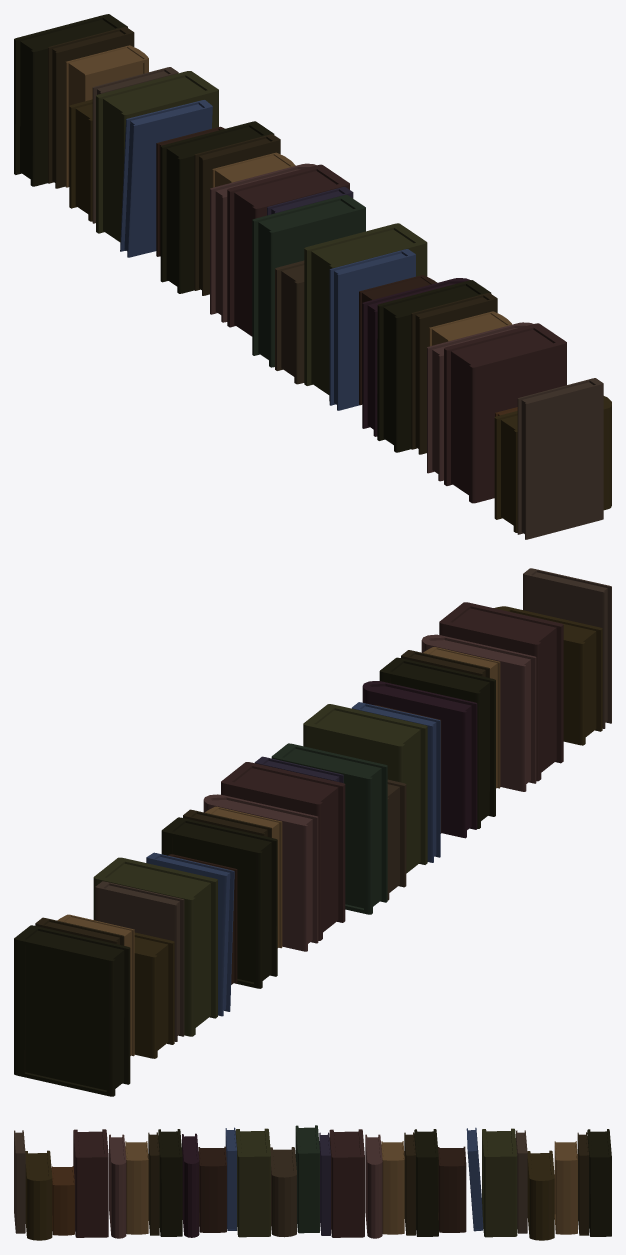
File: bookenlijn1.fbx
3 views of the same model, one above another, from view 1: azimuth 30°, elevation 25°; view 2: azimuth 150°, elevation 25°; view 3: azimuth 270°, elevation 25° (orthographic). The views are drawn at different scales.
Parts seen in each view (by area): view 1: B_book2, B_book1, book4, book2.001, book2, book6.001, B_book4.001, B_book4, B_book2.001, B_book4.002, book6, B_book6.002 (+15 smaller); view 2: B_book4.002, B_book4.001, book2, book4, B_book2, B_book2.001, book2.001, B_book5, book5, book5.001, B_book4, B_book3 (+14 smaller); view 3: book2.001, B_book2, B_book2.001, book2, B_book4, book4, B_book4.001, B_book4.002, Cube.021, B_book3.001, B_book3, Cube.019 (+16 smaller).
Boxes of the visible parts, x1,y1,x2,y2 form: B_book2: (444, 323, 566, 503); B_book1: (517, 378, 603, 539); book4: (252, 195, 365, 367); book2.001: (96, 71, 218, 250); book2: (304, 223, 427, 400); book6.001: (120, 100, 212, 257); B_book4.001: (160, 121, 274, 293); B_book4: (377, 280, 491, 452); B_book2.001: (227, 164, 349, 336); B_book4.002: (14, 14, 127, 186); book6: (329, 249, 415, 410); B_book6.002: (48, 27, 134, 188); B_book4.002: (14, 925, 130, 1096); B_book4.001: (161, 817, 277, 988); book2: (303, 704, 427, 873); book4: (271, 743, 387, 914); B_book2: (439, 602, 563, 781); B_book2.001: (221, 762, 345, 940); book2.001: (93, 857, 217, 1036); B_book5: (362, 681, 477, 838); book5: (421, 634, 536, 791); book5.001: (203, 794, 318, 951); B_book4: (379, 657, 495, 828); B_book3: (494, 606, 602, 745); book2.001: (482, 1128, 517, 1237); B_book2: (73, 1129, 108, 1237); B_book2.001: (329, 1129, 364, 1237); book2: (235, 1128, 270, 1237); B_book4: (158, 1129, 182, 1236); book4: (295, 1125, 319, 1233); B_book4.001: (414, 1129, 438, 1236); B_book4.002: (587, 1129, 611, 1236); Cube.021: (438, 1146, 466, 1232); B_book3.001: (527, 1150, 554, 1240); B_book3: (25, 1150, 52, 1240); Cube.019: (198, 1146, 226, 1232).
Bounding box in the file's own units: 37.32 × 40.38 × 270.
